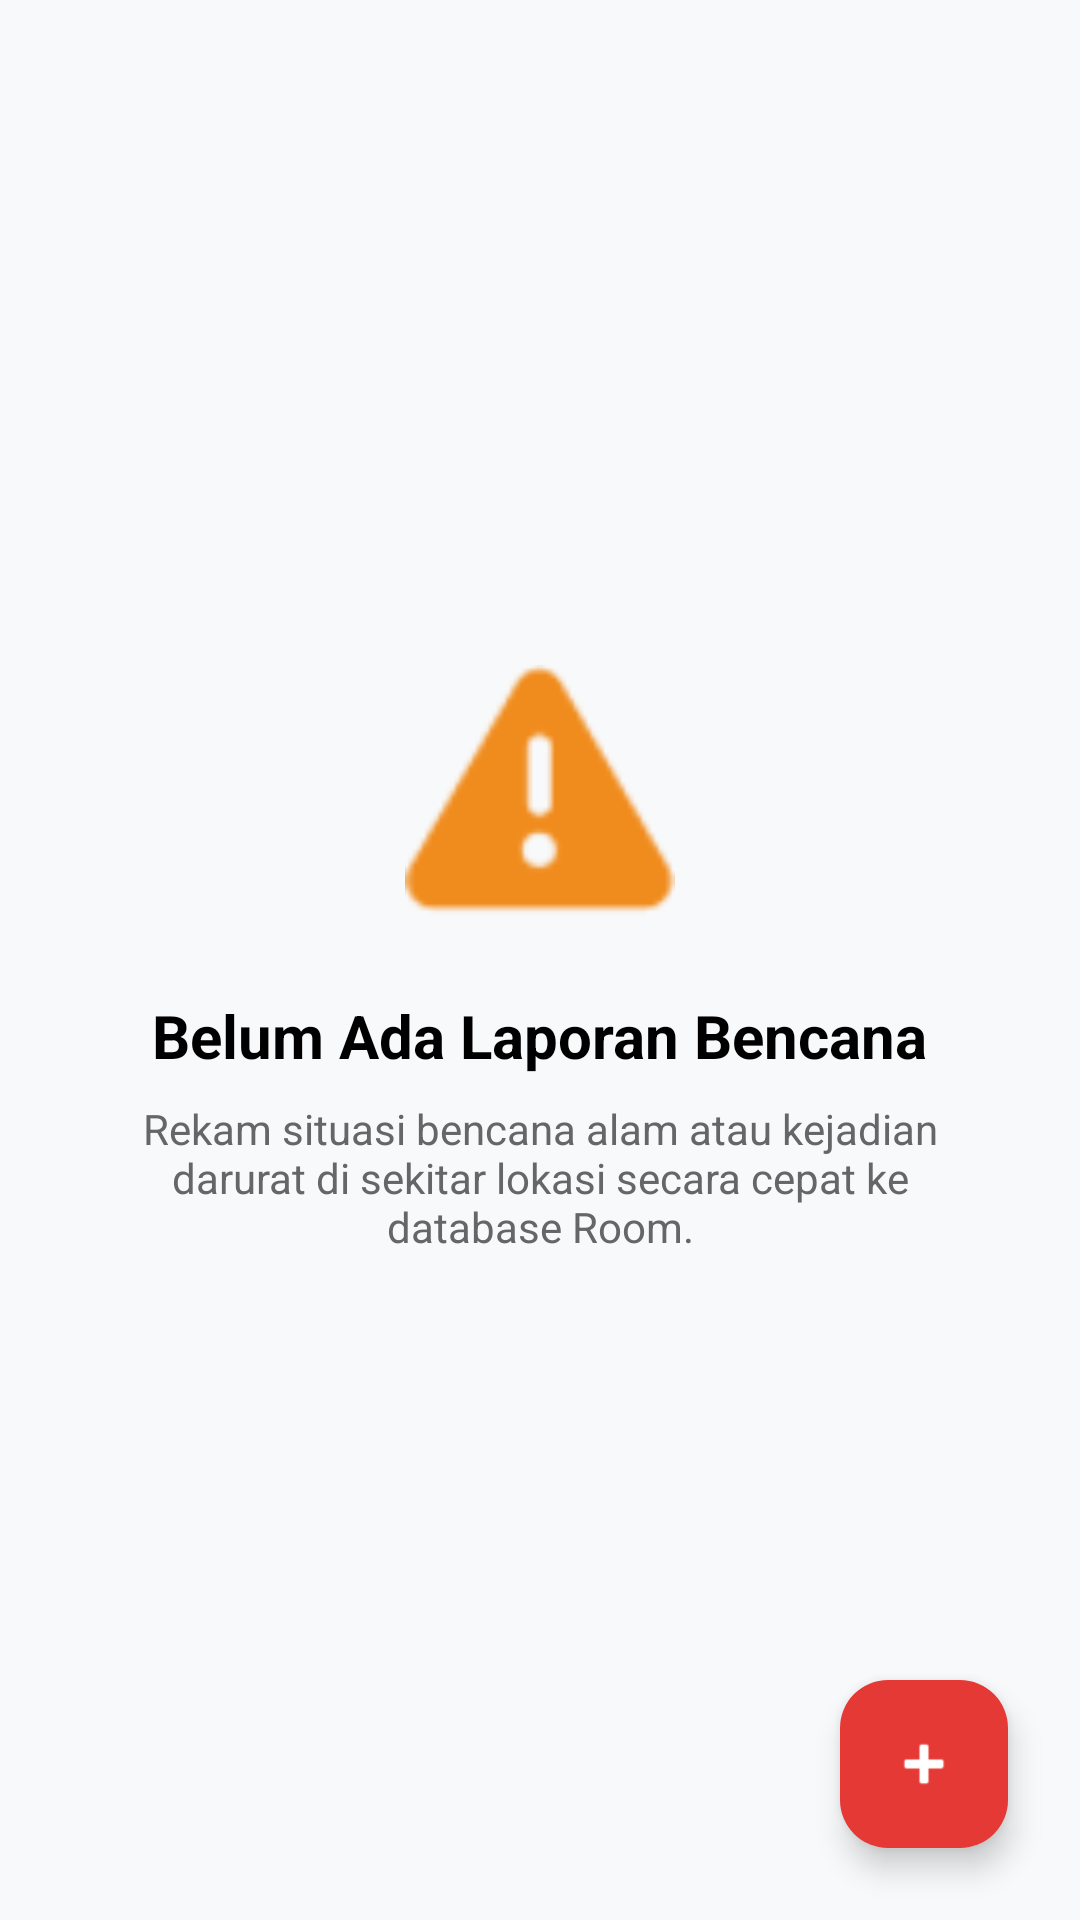

Icons on this 1080x1920 Android screen, each with its box as (x1, y1, x2, y2):
alert: (405, 665, 675, 911)
Tambah Laporan: (840, 1680, 1008, 1848)
